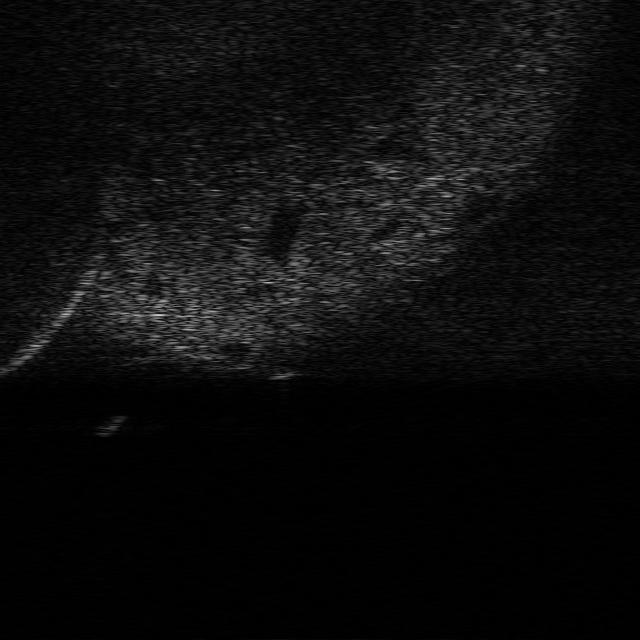cylinder: (99, 413, 125, 437)
